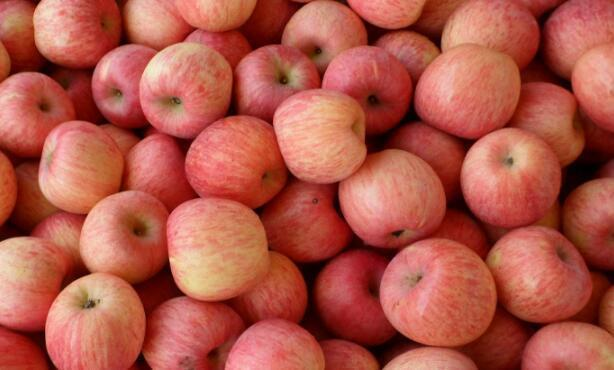apple: (379, 238, 495, 347), (165, 195, 272, 302), (342, 147, 449, 244), (489, 224, 597, 320), (412, 44, 525, 135), (41, 271, 146, 368), (457, 128, 560, 225), (75, 191, 177, 282), (181, 116, 286, 204), (141, 45, 236, 139), (272, 89, 368, 181), (314, 249, 404, 345), (258, 179, 353, 264), (142, 296, 249, 370), (38, 121, 124, 213), (321, 45, 414, 130), (1, 235, 73, 332), (234, 43, 323, 115), (33, 1, 122, 71), (1, 74, 76, 155), (92, 44, 160, 131), (280, 2, 367, 67), (563, 179, 613, 270)
